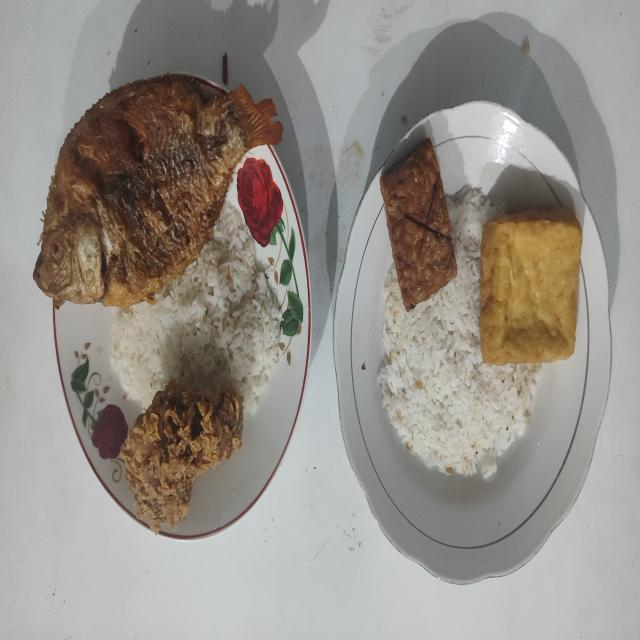ikan_mujair: (33, 74, 283, 307)
nasi_putih: (378, 185, 542, 477), (110, 202, 282, 414)
tahu_goreng: (480, 210, 582, 364)
tempe_goreng: (380, 139, 457, 312)
